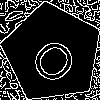O: (27, 27, 87, 88)
